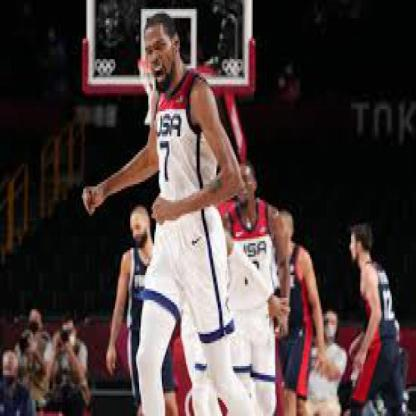rim: (136, 57, 159, 75)
